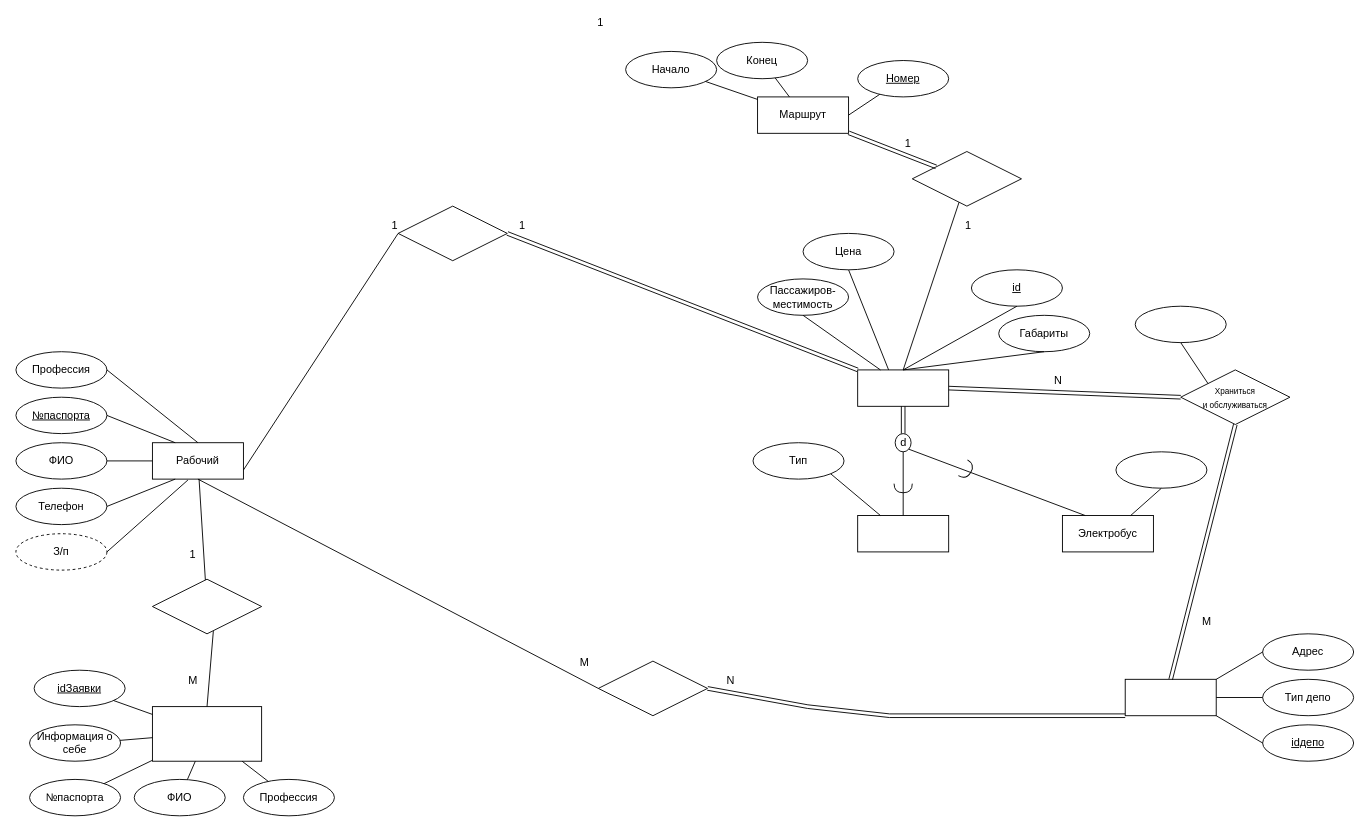
This 1370x832 diagram has some shape labels left out. The shapes that lost their labels are listed below. From the top down, each one's centre as x and y in pixels, then its label:
the point at 966,178: Следовать_по
the point at 452,233: Водить
the point at 1180,324: Номер в парке
the point at 903,387: Общественный транспорт
the point at 1161,469: Дальность хода
the point at 903,533: Рогатый транспорт
the point at 207,606: Претендовать_на
the point at 652,688: Работать
the point at 1170,697: Депо
the point at 207,733: Заявка
